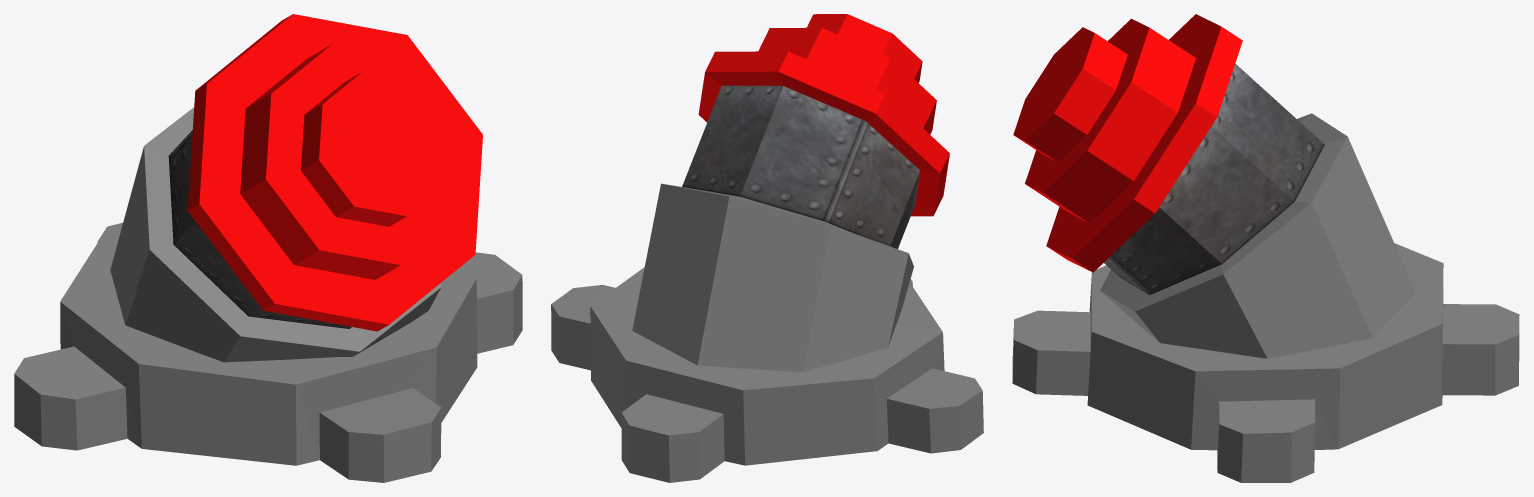
File: pipe_JU.glb
3 views of the same model, side by side, from view 1: azimuth 30°, elevation 25°; view 2: azimuth 150°, elevation 25°; view 3: azimuth 270°, elevation 25° (orthographic). The views are drawn at different scales.
Visible parts, largest first — view 1: zhuti.J.001; view 2: zhuti.J.001; view 3: zhuti.J.001.
Boxes of the visible parts, x1,y1,x2,y2 form: zhuti.J.001: (14, 14, 522, 482); zhuti.J.001: (551, 14, 983, 482); zhuti.J.001: (1012, 14, 1519, 482).
Bounding box in the file's own units: 7.14 × 5.42 × 7.13.
1 material, 1 textured.
